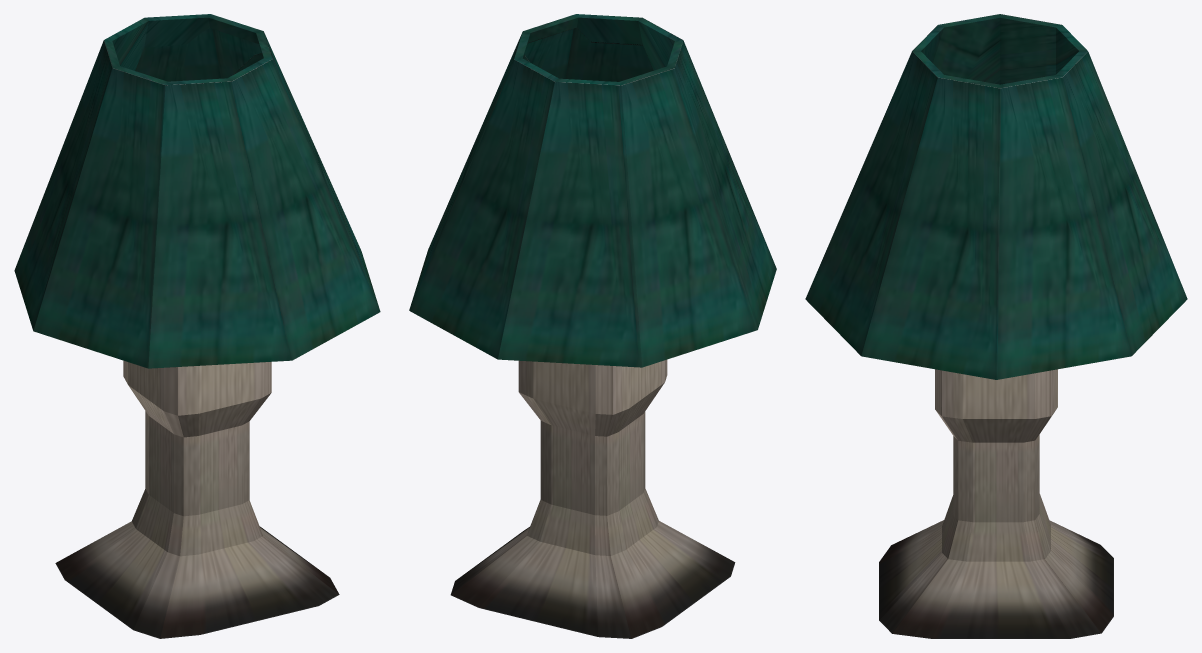
File: table_lamp.fbx
The picture shows the model from 3 angles, left to right: view 1: azimuth 30°, elevation 25°; view 2: azimuth 150°, elevation 25°; view 3: azimuth 270°, elevation 25°; orthographic projection.
Parts seen in each view (by area): view 1: Cube; view 2: Cube; view 3: Cube.
Boxes of the visible parts, bbox=[...] form: Cube: bbox=[14, 14, 380, 638]; Cube: bbox=[409, 14, 776, 638]; Cube: bbox=[805, 14, 1187, 638].
Size of the model in its own units: 80 by 123 by 80.
Materials: 2 (2 with a texture image).
